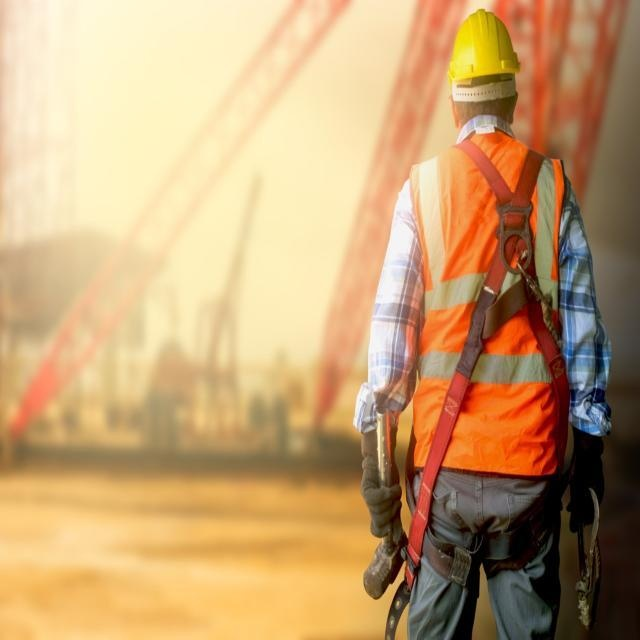Arnes_seguridad: (397, 141, 572, 625)
